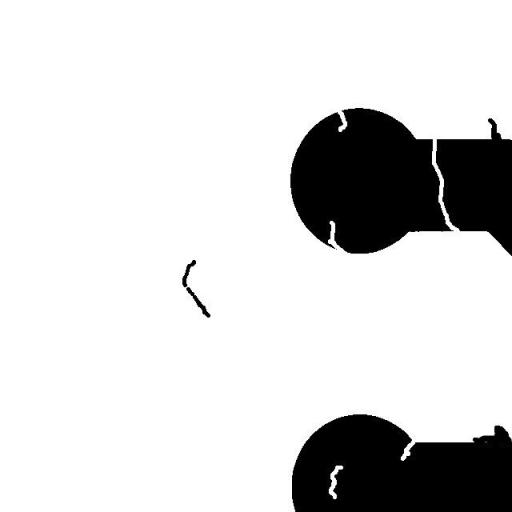copper: (174, 252, 218, 325)
mousebite: (320, 213, 354, 263), (393, 430, 423, 468), (328, 100, 354, 139)
open: (424, 129, 467, 241)
pin-hole: (321, 458, 350, 506)
spur: (465, 418, 511, 456), (480, 110, 510, 156)
